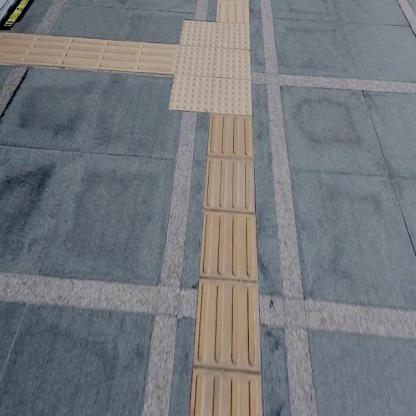podotacti: (191, 117, 263, 415), (162, 3, 266, 137), (0, 30, 172, 76), (217, 0, 248, 22)
